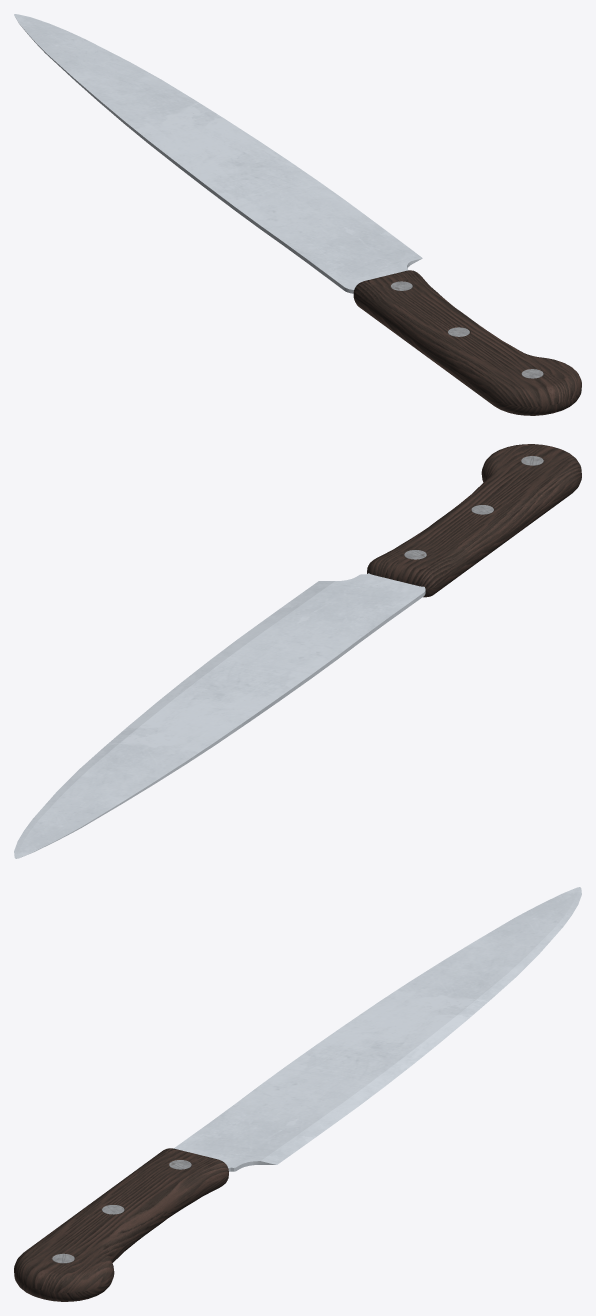
The model's file is Knife-normal01.fbx.
3 views of the same model, one above another, from view 1: azimuth 30°, elevation 25°; view 2: azimuth 150°, elevation 25°; view 3: azimuth 330°, elevation 25° (orthographic). The views are drawn at different scales.
Visible parts, largest first — view 1: Knife_normal; view 2: Knife_normal; view 3: Knife_normal.
Boxes of the visible parts, x1,y1,x2,y2 form: Knife_normal: (14, 14, 581, 415); Knife_normal: (14, 444, 581, 858); Knife_normal: (14, 887, 581, 1301).
Bounding box in the file's own units: 1.89 × 0.5142 × 18.9.
